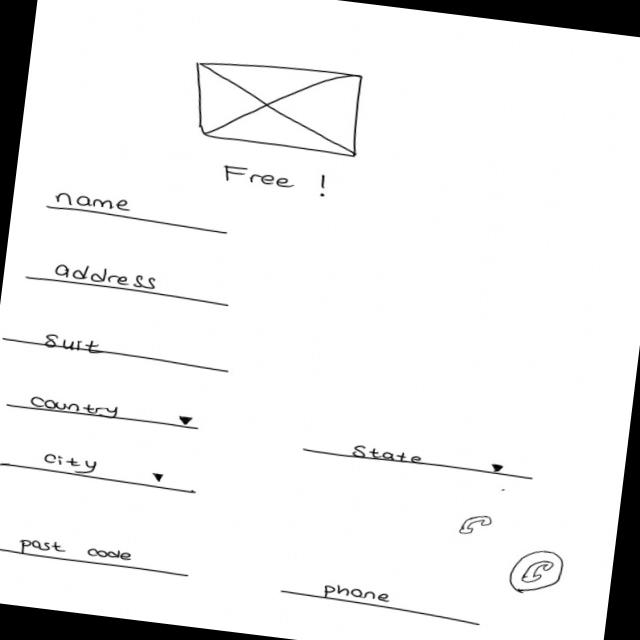icon-button: (508, 547, 569, 601)
image: (186, 54, 370, 161)
input: (1, 325, 234, 375), (23, 257, 235, 309), (277, 576, 483, 628), (1, 531, 193, 580), (46, 189, 233, 238)
label: (221, 163, 298, 191)
select: (303, 437, 538, 484), (1, 443, 201, 496), (5, 392, 203, 433)
